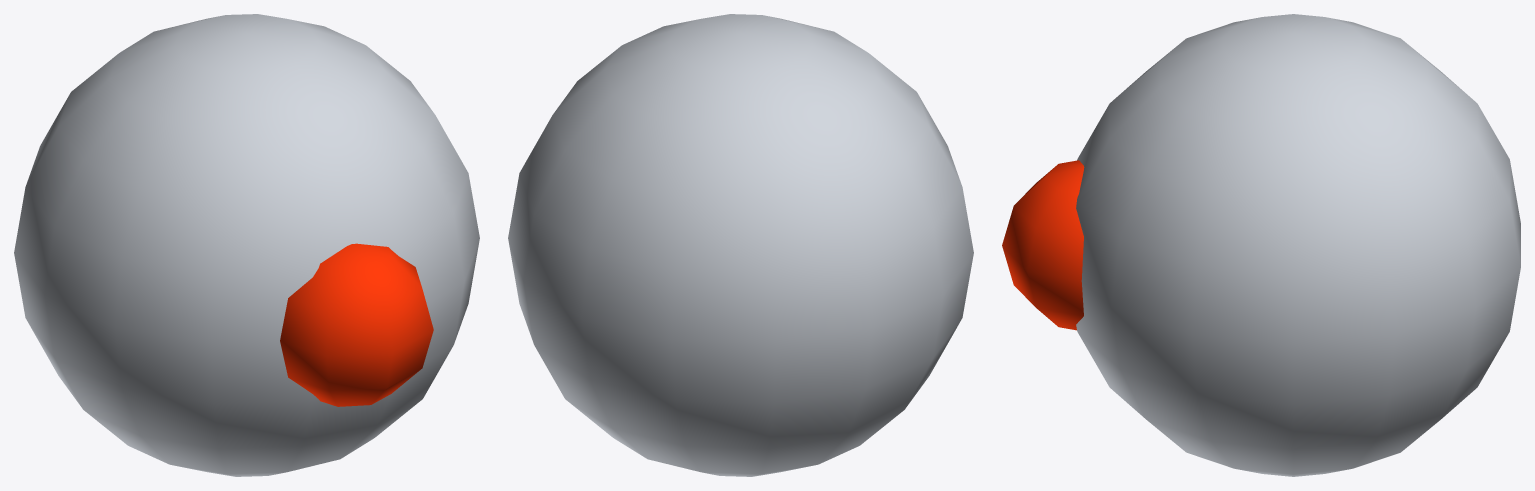
Rendered from scifi_drone_bot.obj.
3 renders of one model, left to right at view 1: azimuth 30°, elevation 25°; view 2: azimuth 150°, elevation 25°; view 3: azimuth 270°, elevation 25°, orthographic.
Visible parts, largest first — view 1: SciFiDroneBot; view 2: SciFiDroneBot; view 3: SciFiDroneBot.
Part boxes in pixels (box(x1,y1,x2,y2)): SciFiDroneBot: box(14, 14, 479, 476); SciFiDroneBot: box(508, 14, 973, 476); SciFiDroneBot: box(1002, 14, 1520, 476).
Size of the model in its own units: 0.8 by 0.8 by 0.89.
